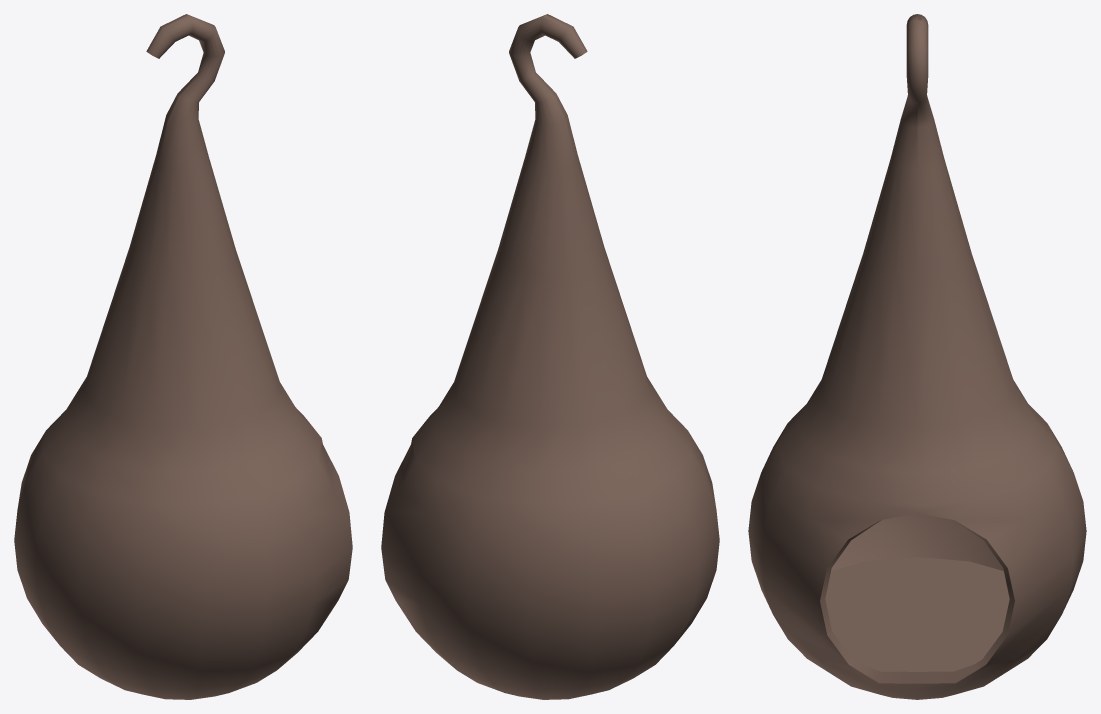
File: Player_house(1).fbx
The picture shows the model from 3 angles, left to right: view 1: azimuth 30°, elevation 25°; view 2: azimuth 150°, elevation 25°; view 3: azimuth 270°, elevation 25°; orthographic projection.
Parts seen in each view (by area): view 1: Sphere; view 2: Sphere; view 3: Sphere.
Part boxes in pixels (box(x1,y1,x2,y2)): Sphere: box(14, 14, 352, 699); Sphere: box(381, 14, 719, 699); Sphere: box(748, 14, 1086, 699).
Size of the model in its own units: 237 by 516 by 217.
